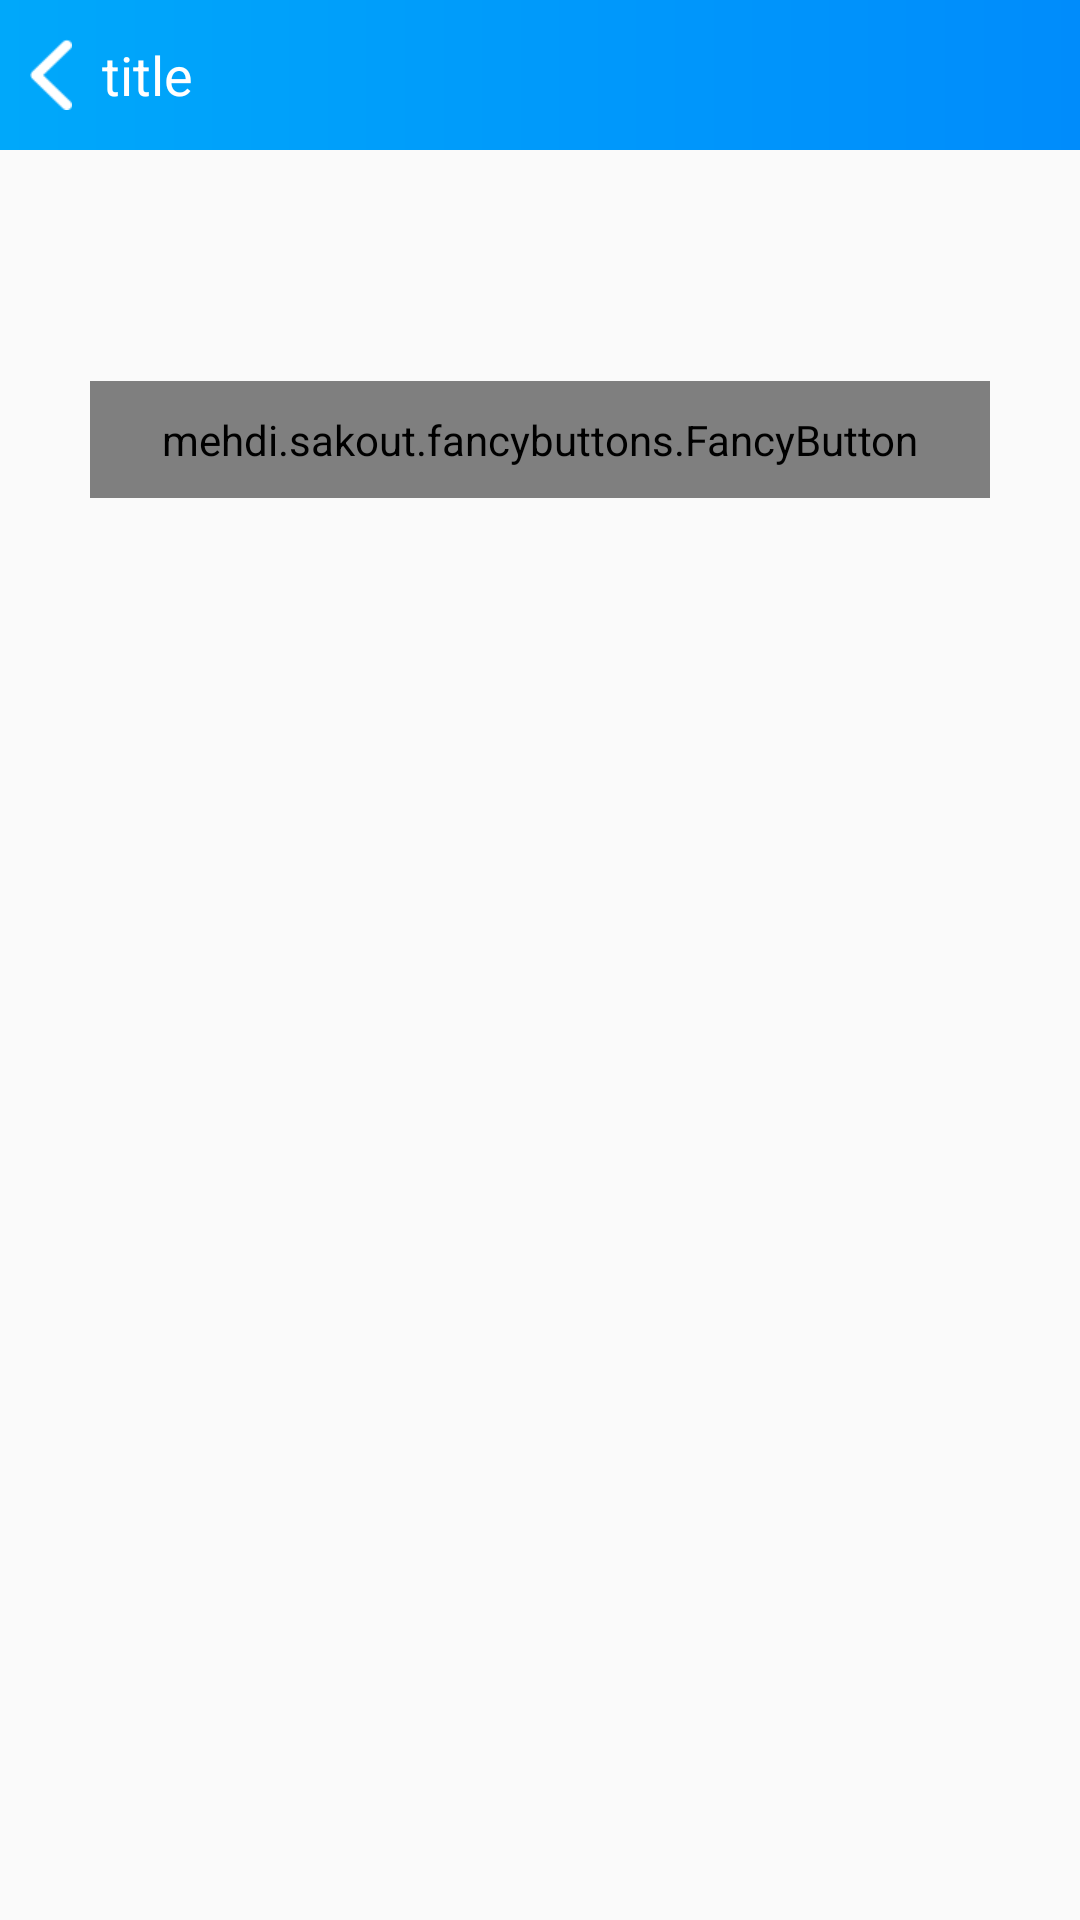

Locate icon controls on the screen. Image size 1080w x 1920h, boxes as Rect(x1, y1, x2, y2).
back: Rect(30, 40, 72, 110)
